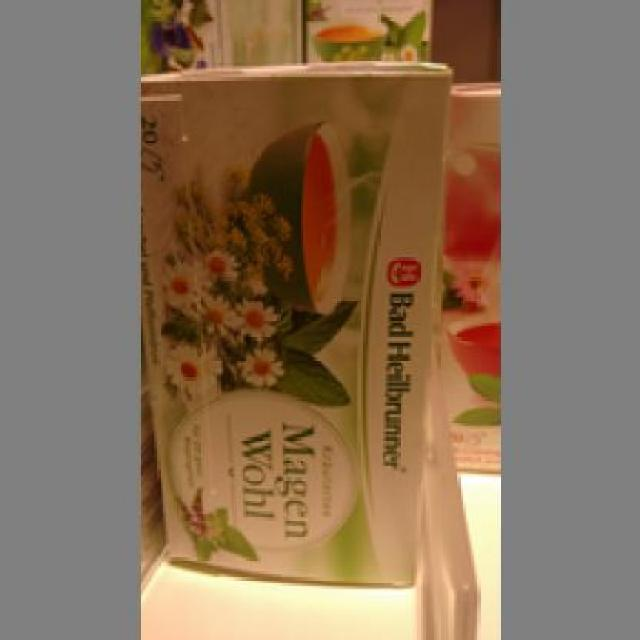Tea: (136, 60, 452, 583)
